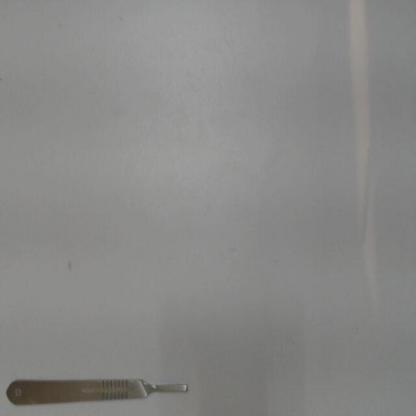No.4 BP Handle: (4, 373, 193, 409)
